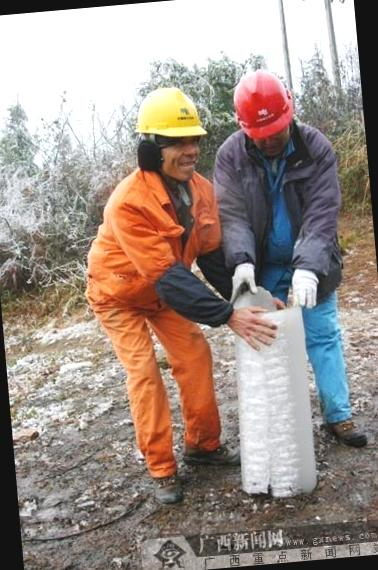helmet: (122, 80, 209, 147), (228, 68, 305, 140)
no_vest: (219, 126, 344, 266)
person: (71, 69, 245, 514), (200, 58, 378, 467)
